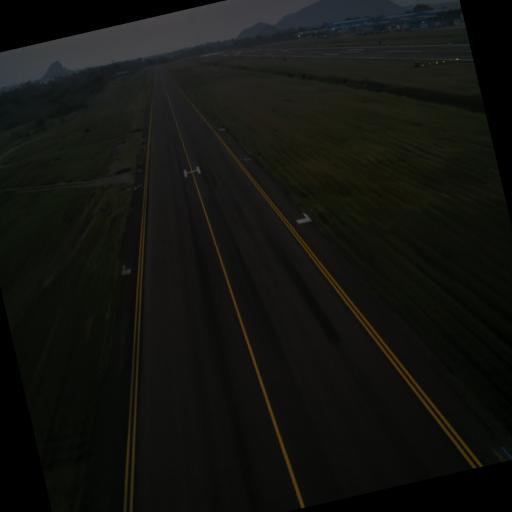on: (497, 437, 512, 462), (133, 182, 137, 189), (244, 154, 248, 160)
